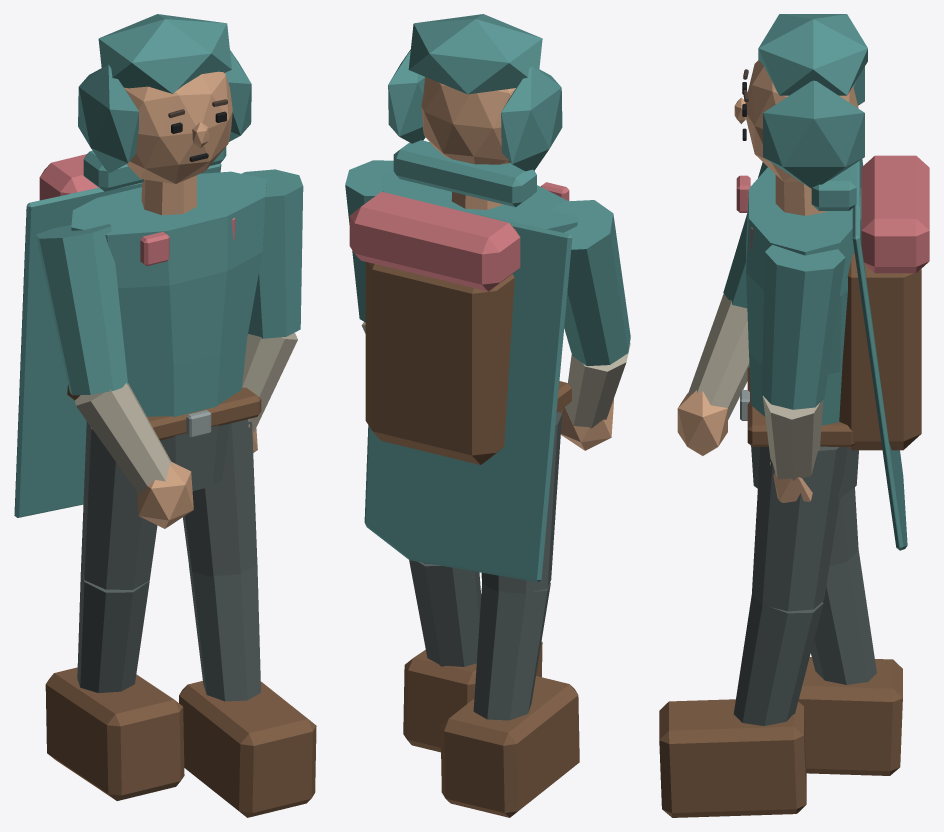
Rendered from npc_refugee_step_r_v01.glb.
3 views of the same model, side by side, from view 1: azimuth 30°, elevation 25°; view 2: azimuth 150°, elevation 25°; view 3: azimuth 270°, elevation 25° (orthographic).
Parts seen in each view (by area): view 1: GEO_npc_refugee_step_r_v01; view 2: GEO_npc_refugee_step_r_v01; view 3: GEO_npc_refugee_step_r_v01.
Part boxes in pixels (x1=…): GEO_npc_refugee_step_r_v01: x1=14, y1=14, x2=316, y2=817; GEO_npc_refugee_step_r_v01: x1=345, y1=14, x2=630, y2=817; GEO_npc_refugee_step_r_v01: x1=659, y1=14, x2=929, y2=817.
Bounding box in the file's own units: 0.76 × 2.1 × 0.6734.
